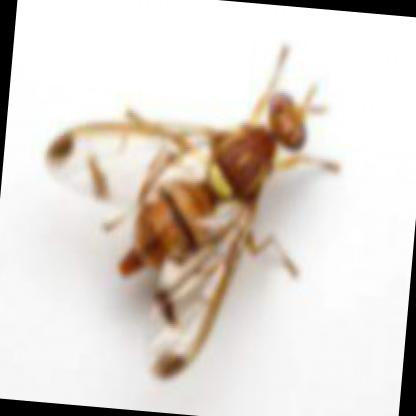fruit fly: (42, 91, 310, 380)
